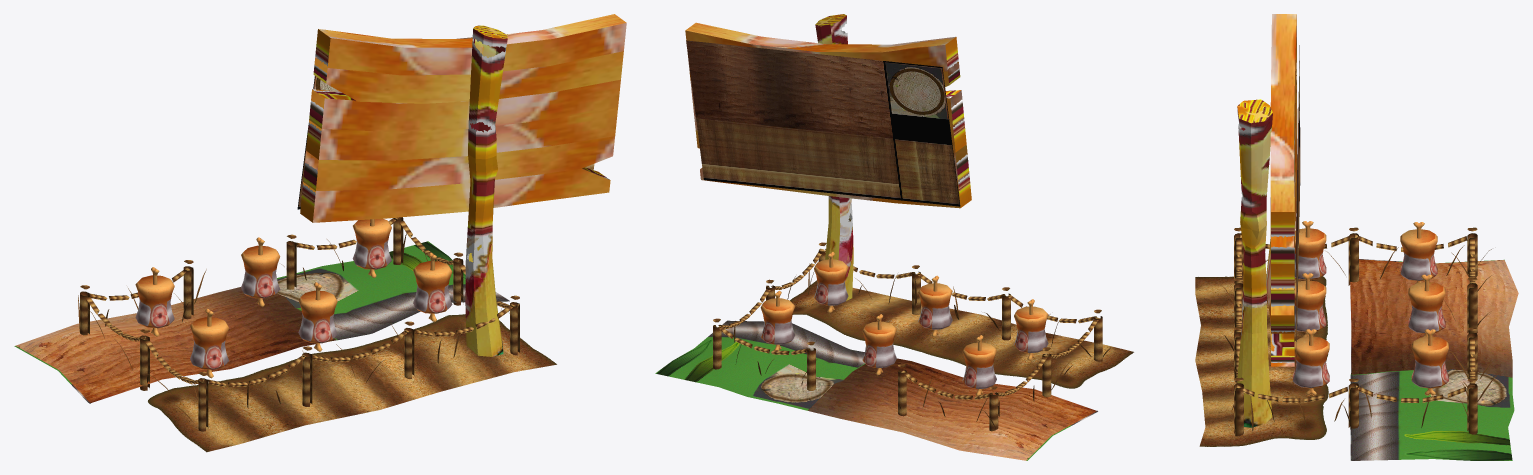
File: farm_build_02.fbx
3 renders of one model, left to right at view 1: azimuth 30°, elevation 25°; view 2: azimuth 150°, elevation 25°; view 3: azimuth 270°, elevation 25°, orthographic. The views are drawn at different scales.
Parts seen in each view (by area): view 1: Signboard, farm_build_02, Meat3, Meat5, Meat2, Meat4, Meat1, Meat6; view 2: Signboard, farm_build_02, Meat3, Meat5, Meat4, Meat6, Meat2, Meat1; view 3: farm_build_02, Signboard, Meat6, Meat5, Meat4, Meat2, Meat3, Meat1.
Boxes of the visible parts, <box> form: Signboard: <box>297,14,626,356</box>; farm_build_02: <box>14,217,556,452</box>; Meat3: <box>298,282,337,351</box>; Meat5: <box>413,252,452,322</box>; Meat2: <box>135,267,174,336</box>; Meat4: <box>241,237,280,306</box>; Meat1: <box>190,308,228,378</box>; Meat6: <box>352,218,391,277</box>; Signboard: <box>685,14,971,300</box>; farm_build_02: <box>655,242,1133,460</box>; Meat3: <box>918,275,952,336</box>; Meat5: <box>814,252,848,312</box>; Meat4: <box>862,314,896,375</box>; Meat6: <box>760,290,795,350</box>; Meat2: <box>962,335,996,395</box>; Meat1: <box>1014,299,1048,360</box>; farm_build_02: <box>1195,227,1518,460</box>; Signboard: <box>1237,14,1300,427</box>; Meat6: <box>1411,329,1448,395</box>; Meat5: <box>1292,329,1329,395</box>; Meat4: <box>1408,274,1445,337</box>; Meat2: <box>1400,222,1437,283</box>; Meat3: <box>1294,273,1326,337</box>; Meat1: <box>1294,221,1326,279</box>.
Size of the model in its own units: 8.06 by 5.51 by 4.62.
